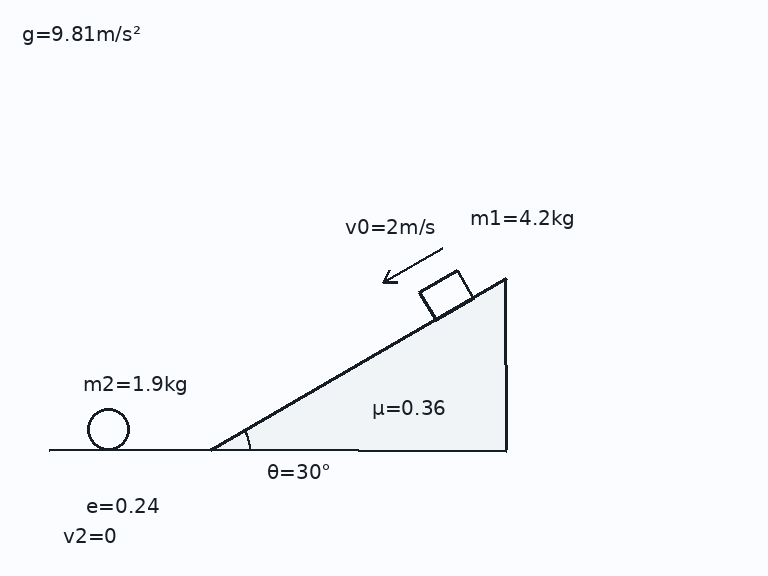ball: (85, 406, 131, 452)
block: (417, 268, 475, 322)
ramp: (208, 277, 508, 452)
